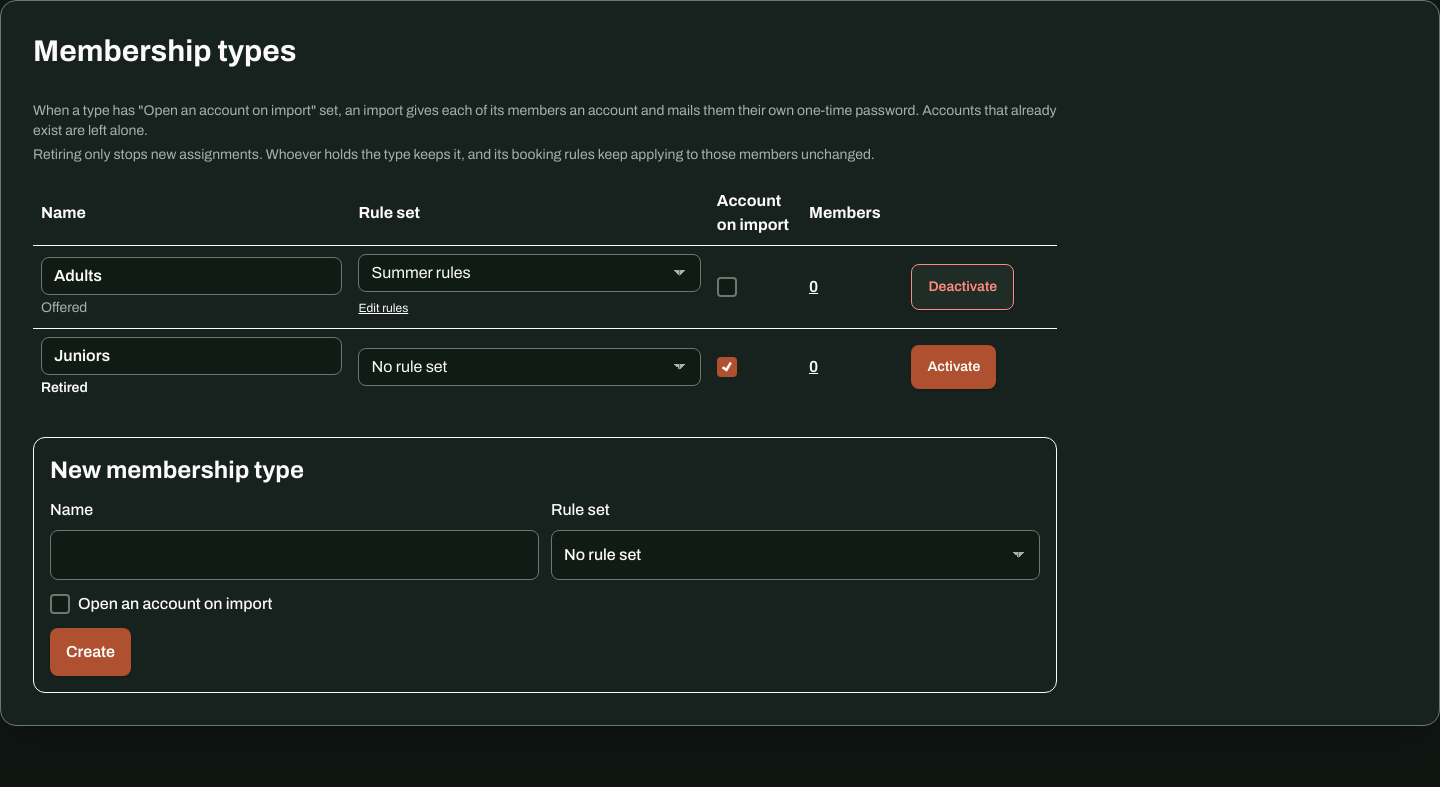
AdminMembershipTypesView › when adding a type, then it joins the list
Expected: the row with test id "membership-type-type-1" is shown, [33,246,1057,328]
In the field with test id "new-membership-type-name": (294,554) [50,530,539,580], type "Seniors"
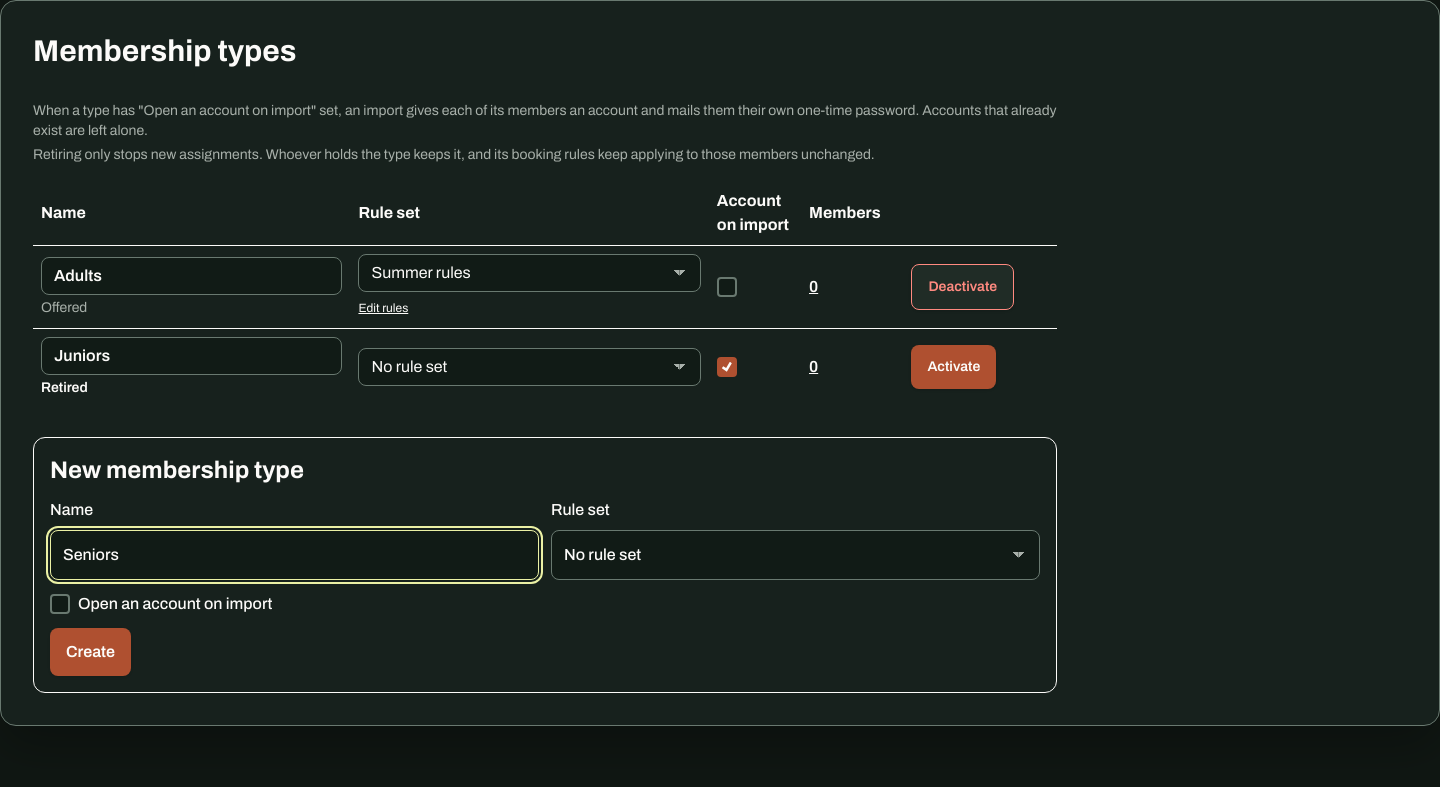
Click the checkbox with test id "new-membership-type-grants-account": (60,604) [50,594,70,614]
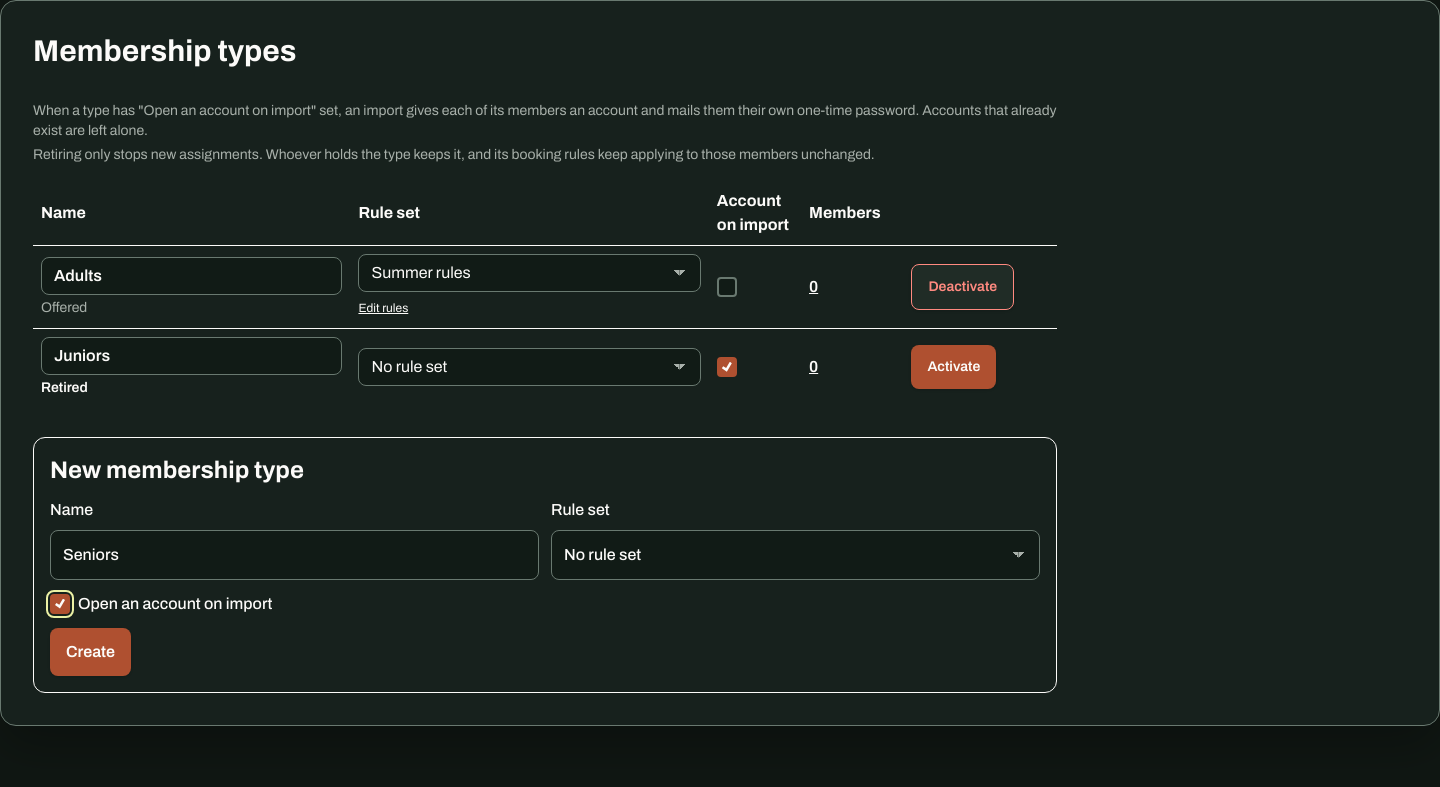
Click the button with test id "create-membership-type": (90,652) [50,628,131,676]
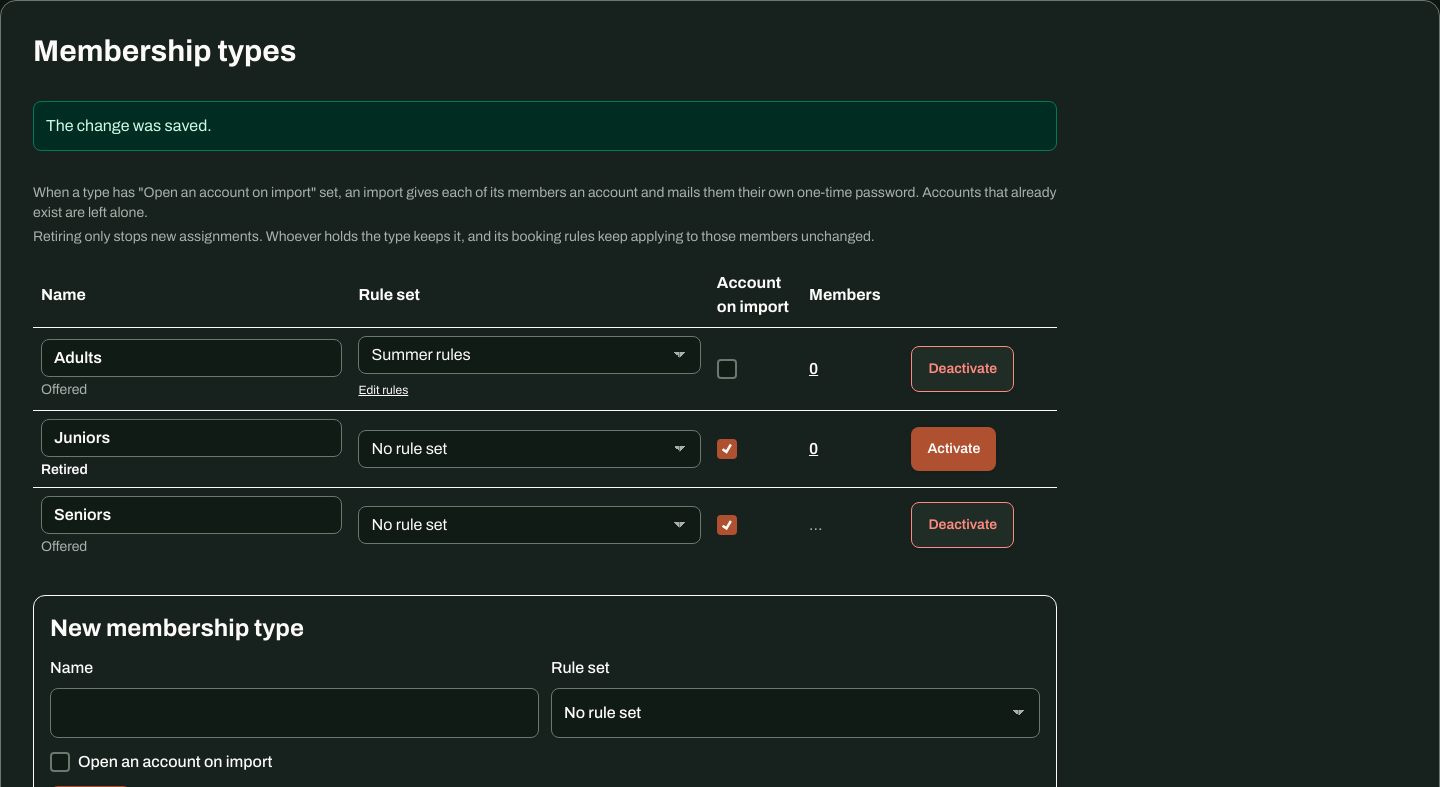
Expected: the row with test id "membership-type-type-9" is shown, [33,487,1057,563]
